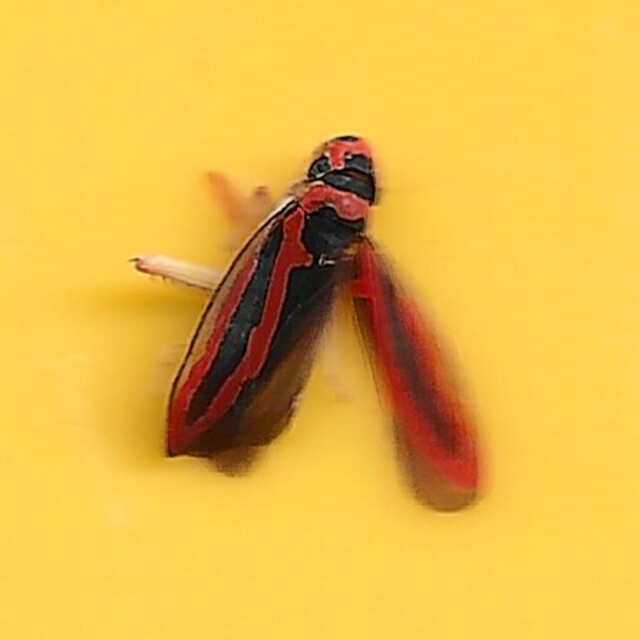Hemiptera: (143, 121, 497, 519)
